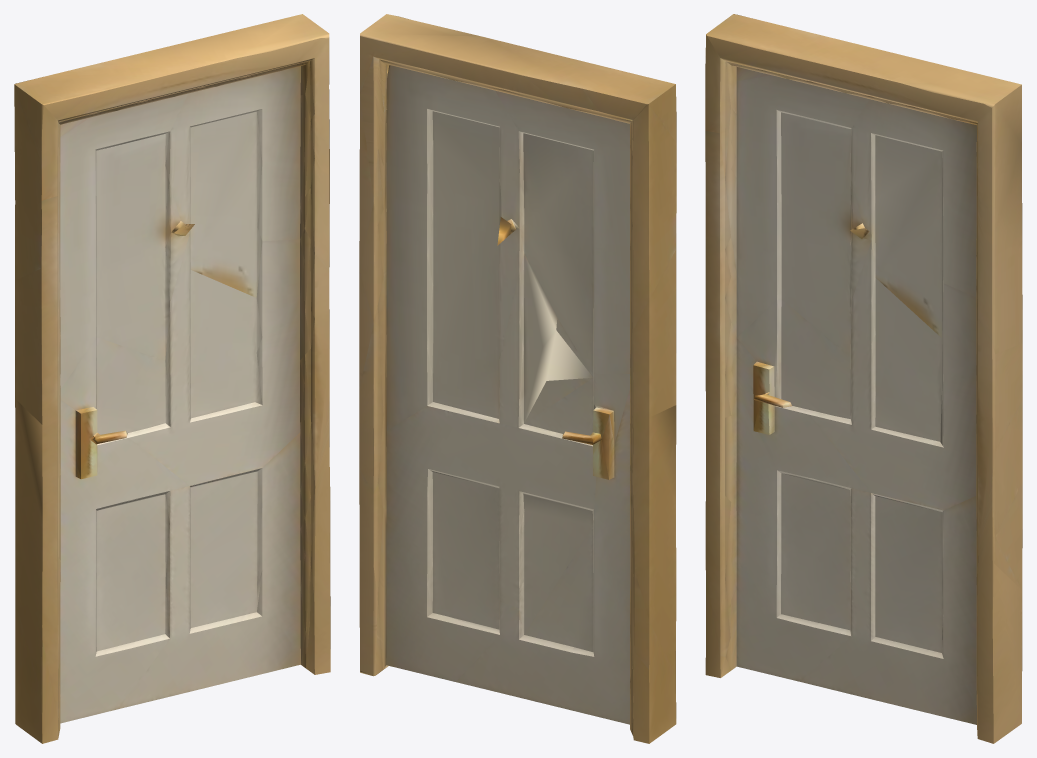
File: fireDoor.glb
3 renders of one model, left to right at view 1: azimuth 30°, elevation 25°; view 2: azimuth 150°, elevation 25°; view 3: azimuth 330°, elevation 25°, orthographic.
Parts seen in each view (by area): view 1: model; view 2: model; view 3: model.
Boxes of the visible parts, x1,y1,x2,y2 form: model: (14, 14, 330, 743); model: (359, 14, 676, 743); model: (705, 14, 1022, 743).
Bounding box in the file's own units: 0.9025 × 1.91 × 0.1935.
Materials: 1 (1 with a texture image).
